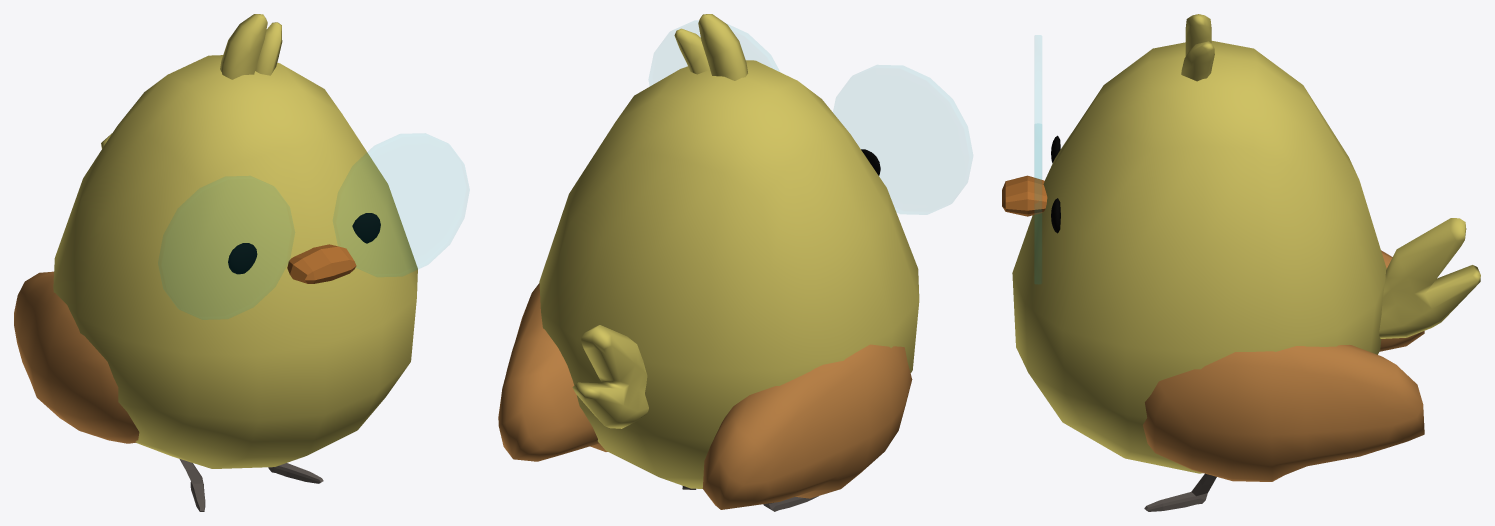
Rendered from Chick.fbx.
The picture shows the model from 3 angles, left to right: view 1: azimuth 30°, elevation 25°; view 2: azimuth 150°, elevation 25°; view 3: azimuth 270°, elevation 25°; orthographic projection. The views are drawn at different scales.
Parts seen in each view (by area): view 1: polySurface13, polySurface6, polySurface12, polySurface3, polySurface14, polySurface10, polySurface9, polySurface5, polySurface4; view 2: polySurface13, polySurface6, polySurface7, polySurface1, polySurface12, polySurface14; view 3: polySurface13, polySurface7, polySurface1, polySurface3, polySurface4, polySurface14, polySurface12.
Part boxes in pixels (<box>): polySurface13: <box>53,55,417,468</box>; polySurface6: <box>14,271,139,443</box>; polySurface12: <box>220,14,267,79</box>; polySurface3: <box>287,244,356,283</box>; polySurface14: <box>255,22,282,75</box>; polySurface10: <box>228,243,257,274</box>; polySurface9: <box>352,213,380,243</box>; polySurface5: <box>179,459,205,511</box>; polySurface4: <box>268,463,323,483</box>; polySurface13: <box>539,60,919,488</box>; polySurface6: <box>702,344,912,509</box>; polySurface7: <box>498,283,607,461</box>; polySurface1: <box>572,325,648,428</box>; polySurface12: <box>698,14,747,80</box>; polySurface14: <box>674,28,710,74</box>; polySurface13: <box>1012,41,1386,473</box>; polySurface7: <box>1143,345,1424,481</box>; polySurface1: <box>1379,218,1480,338</box>; polySurface3: <box>1002,175,1047,216</box>; polySurface4: <box>1144,473,1216,511</box>; polySurface14: <box>1181,41,1214,81</box>; polySurface12: <box>1185,14,1211,55</box>.
Size of the model in its own units: 7.06 by 9.02 by 8.17.
